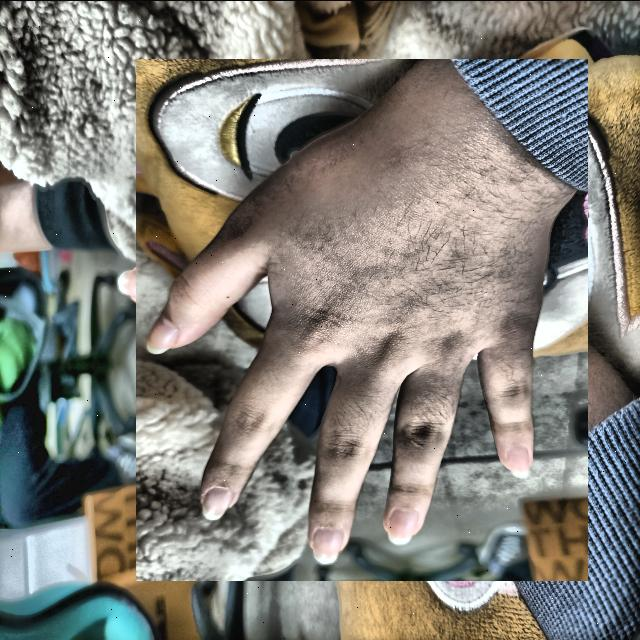not-gloved: (119, 75, 606, 562)
